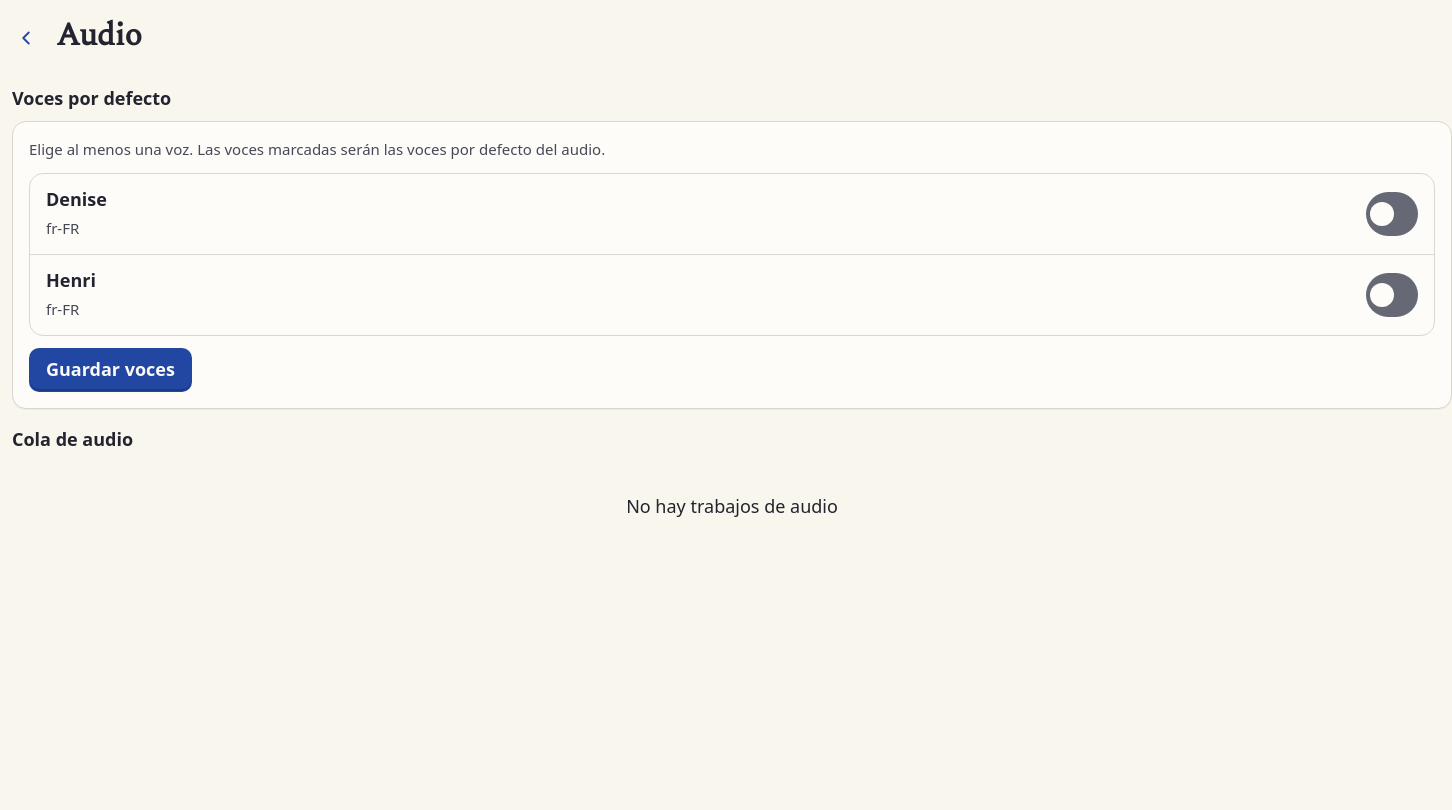
it: audio no deja guardar sin ninguna voz seleccionada
Expected: the switch named "Denise" is shown, [1366,192,1418,236]
Click the button "Guardar voces" at x=110, y=370, box [29,348,192,392]
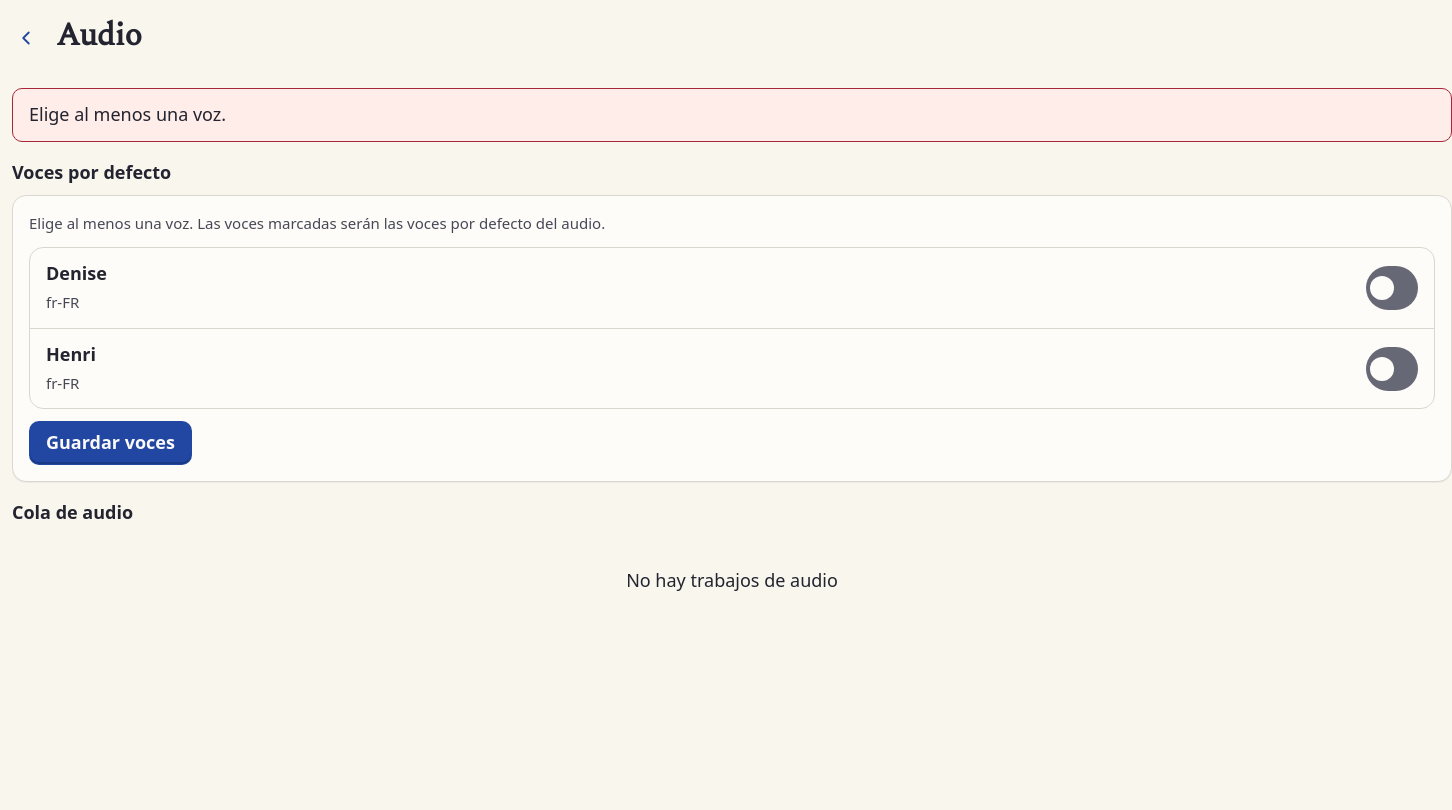
Now the message shows "Elige al menos una voz", box [29,102,226,126]
